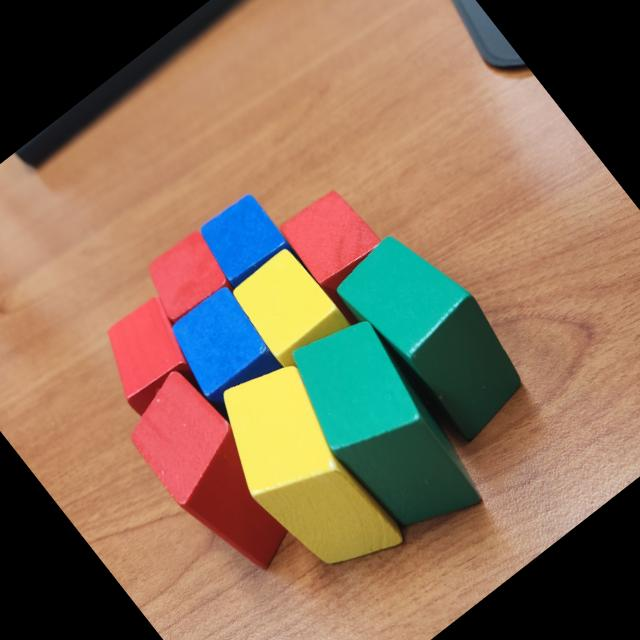blue: (158, 282, 298, 426), (192, 190, 318, 323)
green: (267, 301, 502, 557), (328, 216, 546, 452)
red: (110, 361, 317, 588), (82, 290, 248, 467), (274, 181, 394, 305), (134, 224, 241, 330)
yellow: (190, 346, 426, 600), (226, 242, 357, 378)
